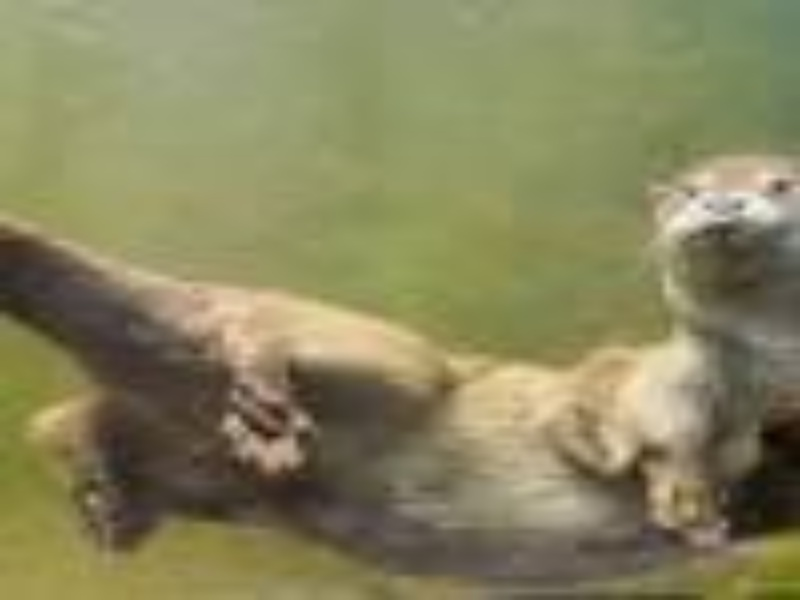minkish: (1, 153, 799, 592)
